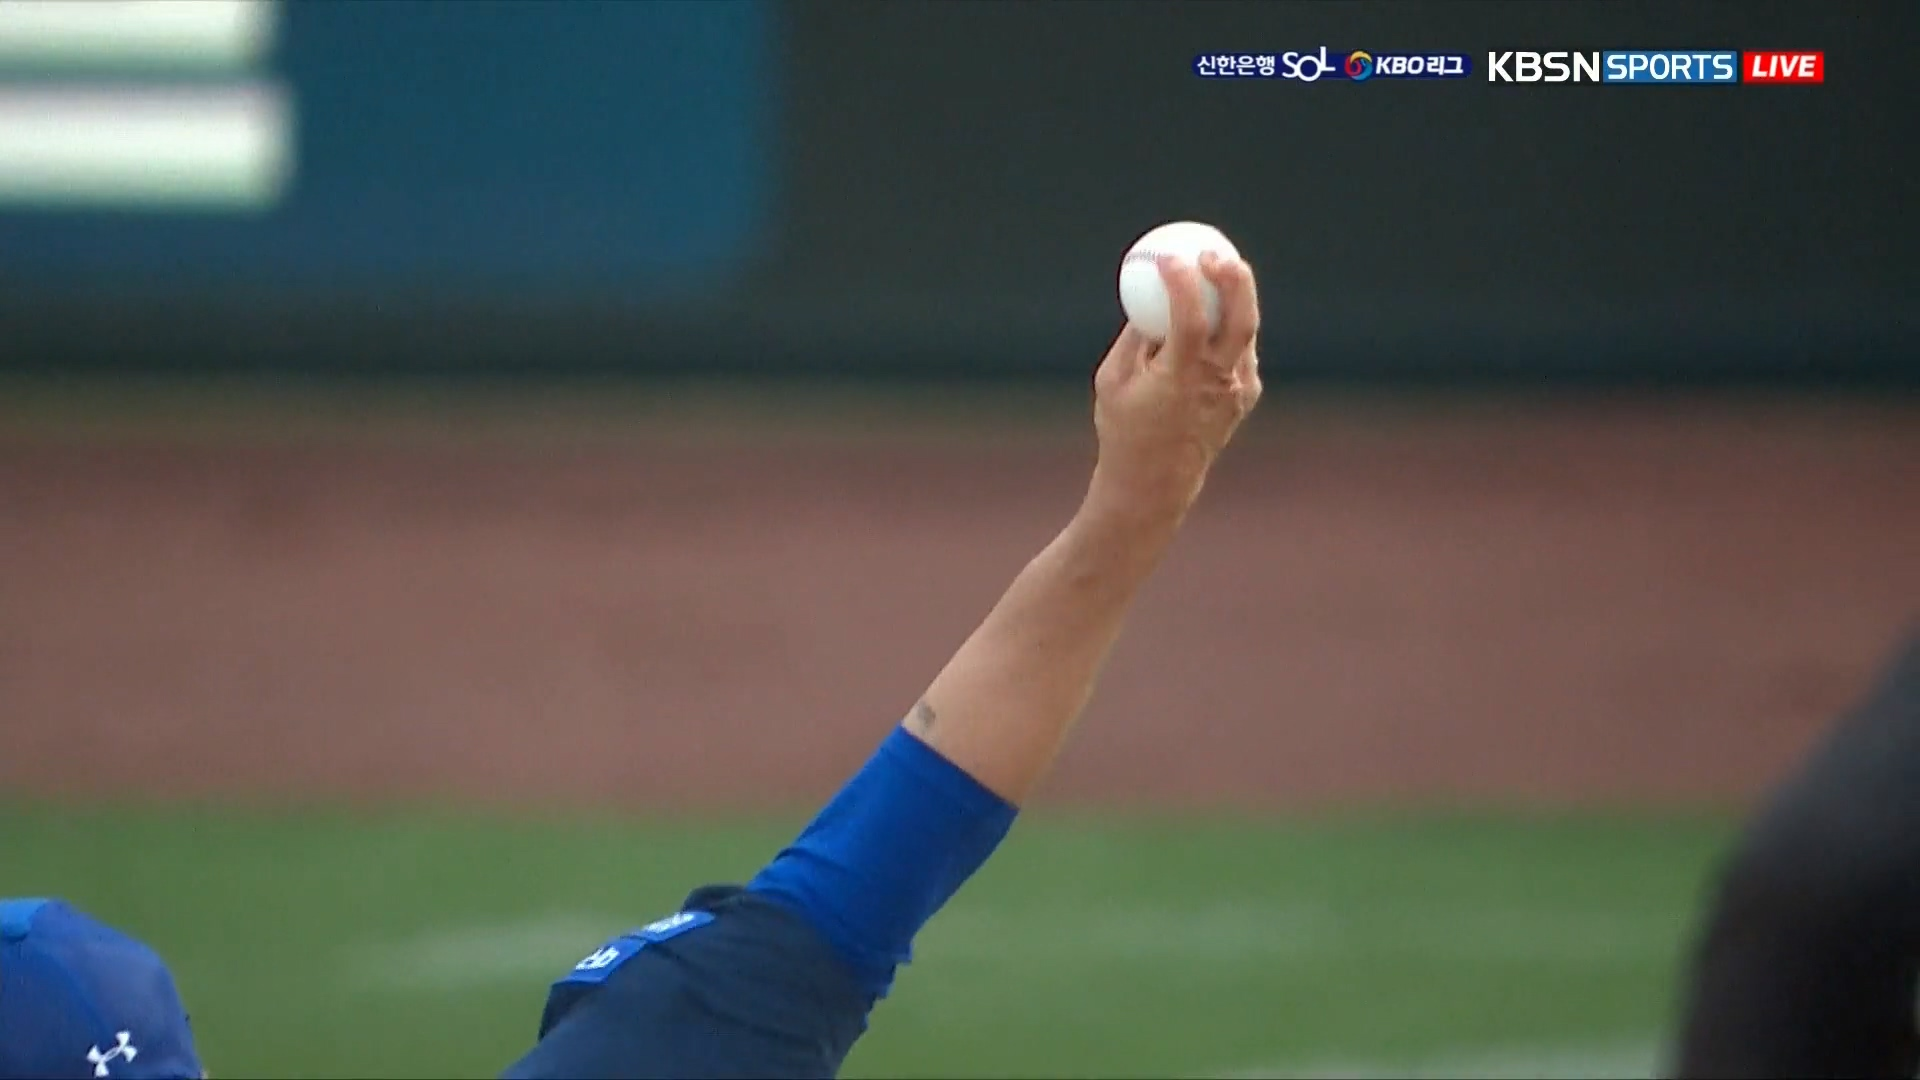zoomin_hand: (887, 204, 1269, 982)
